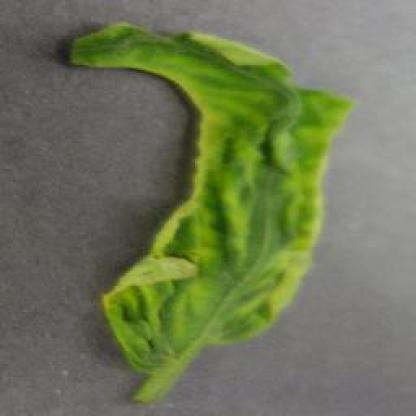bad leaf: (74, 20, 350, 381)
